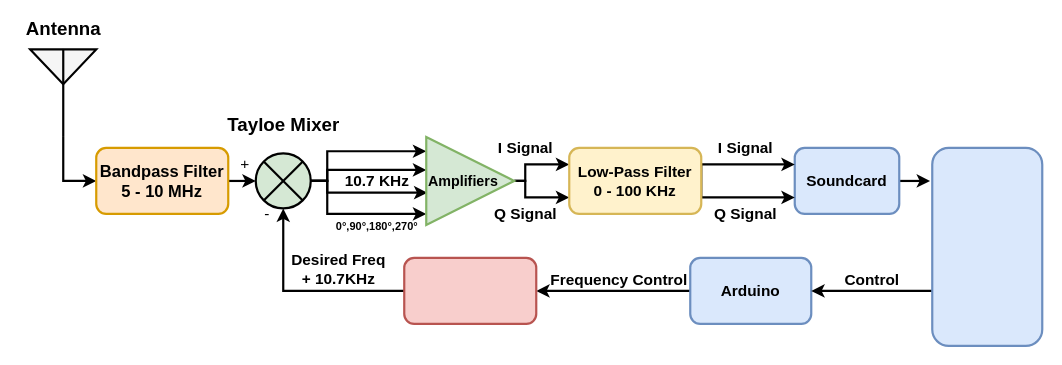
The diagram is 1062 pixels wide and 365 high, and some of its shapes have lost their labels. Here are the shapes that lost their labels. From the top down, the centre of each, then its label:
At pixel 987 246: "Quisk".
At pixel 470 290: "Local Oscillator".
